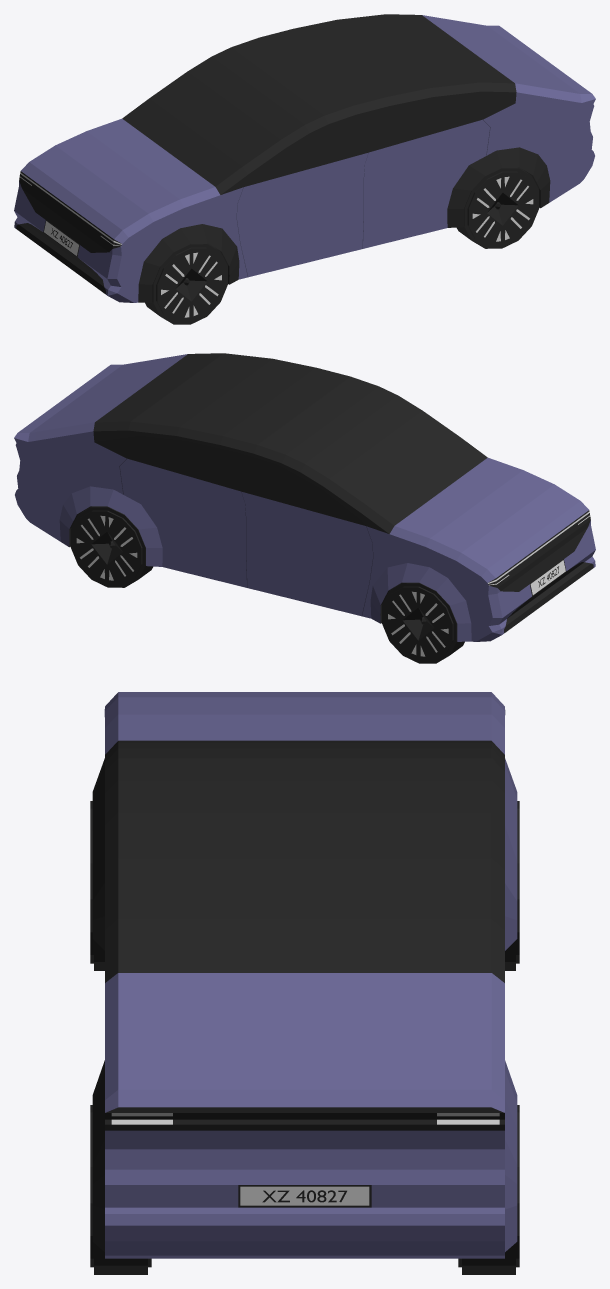
File: Car1.fbx
The picture shows the model from 3 angles, top to bottom: view 1: azimuth 30°, elevation 25°; view 2: azimuth 150°, elevation 25°; view 3: azimuth 270°, elevation 25°; orthographic projection. The views are drawn at different scales.
Parts seen in each view (by area): view 1: Car1; view 2: Car1; view 3: Car1.
Boxes of the visible parts, <box> form: Car1: <box>14,14,595,324</box>; Car1: <box>14,353,595,663</box>; Car1: <box>90,692,519,1274</box>.
Bounding box in the file's own units: 1656 × 566 × 635.
